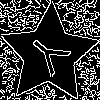Y: (24, 29, 78, 84)
